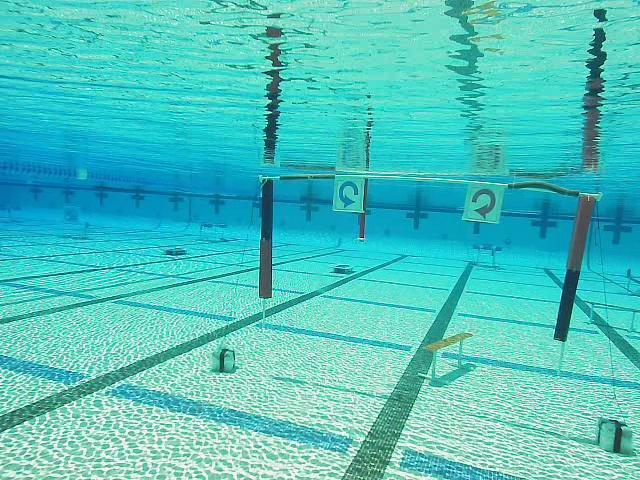dropper: (331, 259, 354, 275), (164, 244, 188, 257)
gate: (258, 174, 601, 342)
gate_blue: (333, 177, 366, 213)
gate_leg_l: (259, 175, 274, 299)
gate_leg_r: (553, 193, 602, 342)
gate_red: (463, 184, 503, 223)
table: (471, 243, 502, 267)
